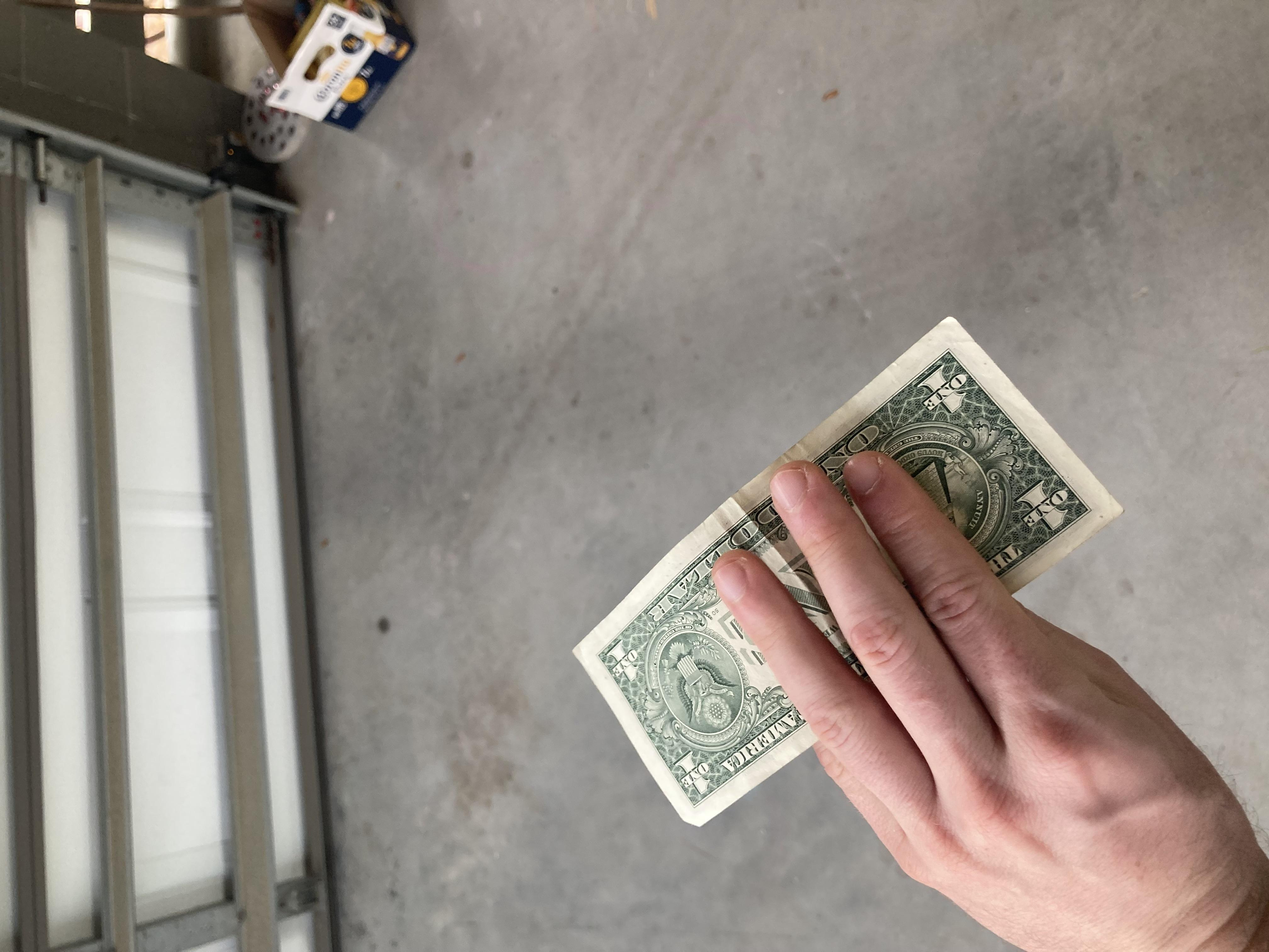one-back: (159, 429, 854, 844)
